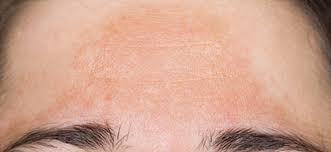Melasma: (53, 7, 276, 118)
